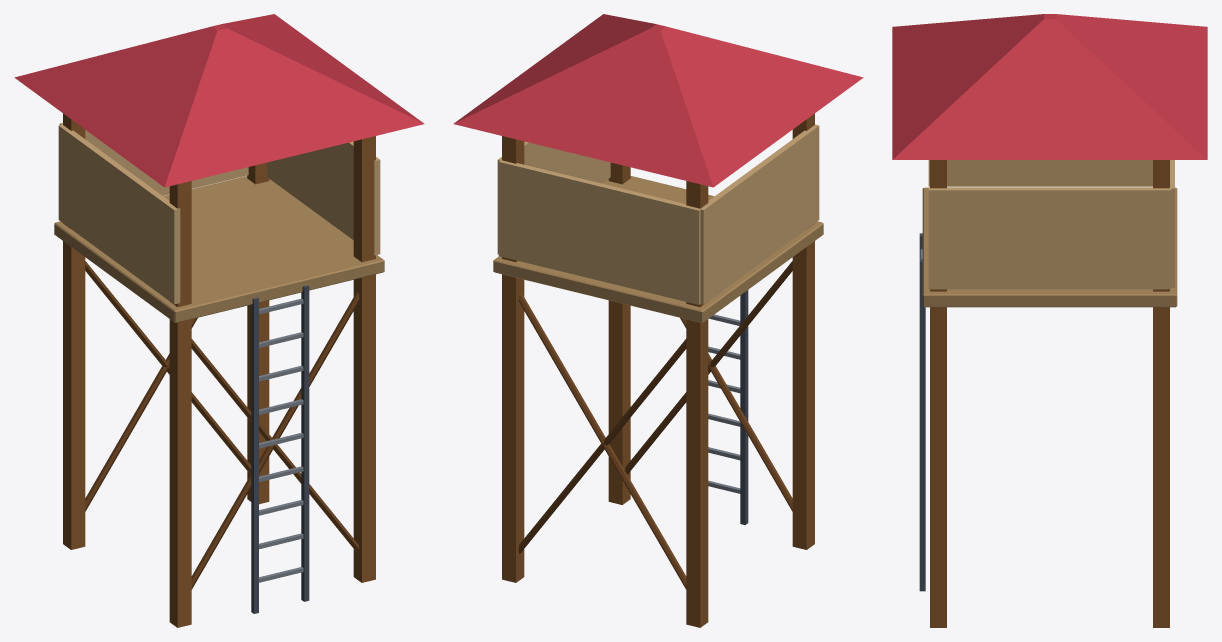
The model's file is watch_tower.glb.
3 renders of one model, left to right at view 1: azimuth 30°, elevation 25°; view 2: azimuth 150°, elevation 25°; view 3: azimuth 270°, elevation 25°, orthographic. The views are drawn at different scales.
Visible parts, largest first — view 1: watch_tower; view 2: watch_tower; view 3: watch_tower.
Boxes of the visible parts, box(x1,y1,x2,y2) form: watch_tower: box(14, 14, 424, 627); watch_tower: box(453, 14, 863, 627); watch_tower: box(892, 14, 1207, 627).
Bounding box in the file's own units: 2.6 × 5.1 × 2.6.
